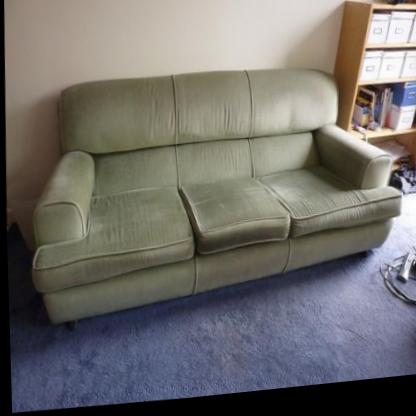Sofa: (23, 56, 409, 342)
